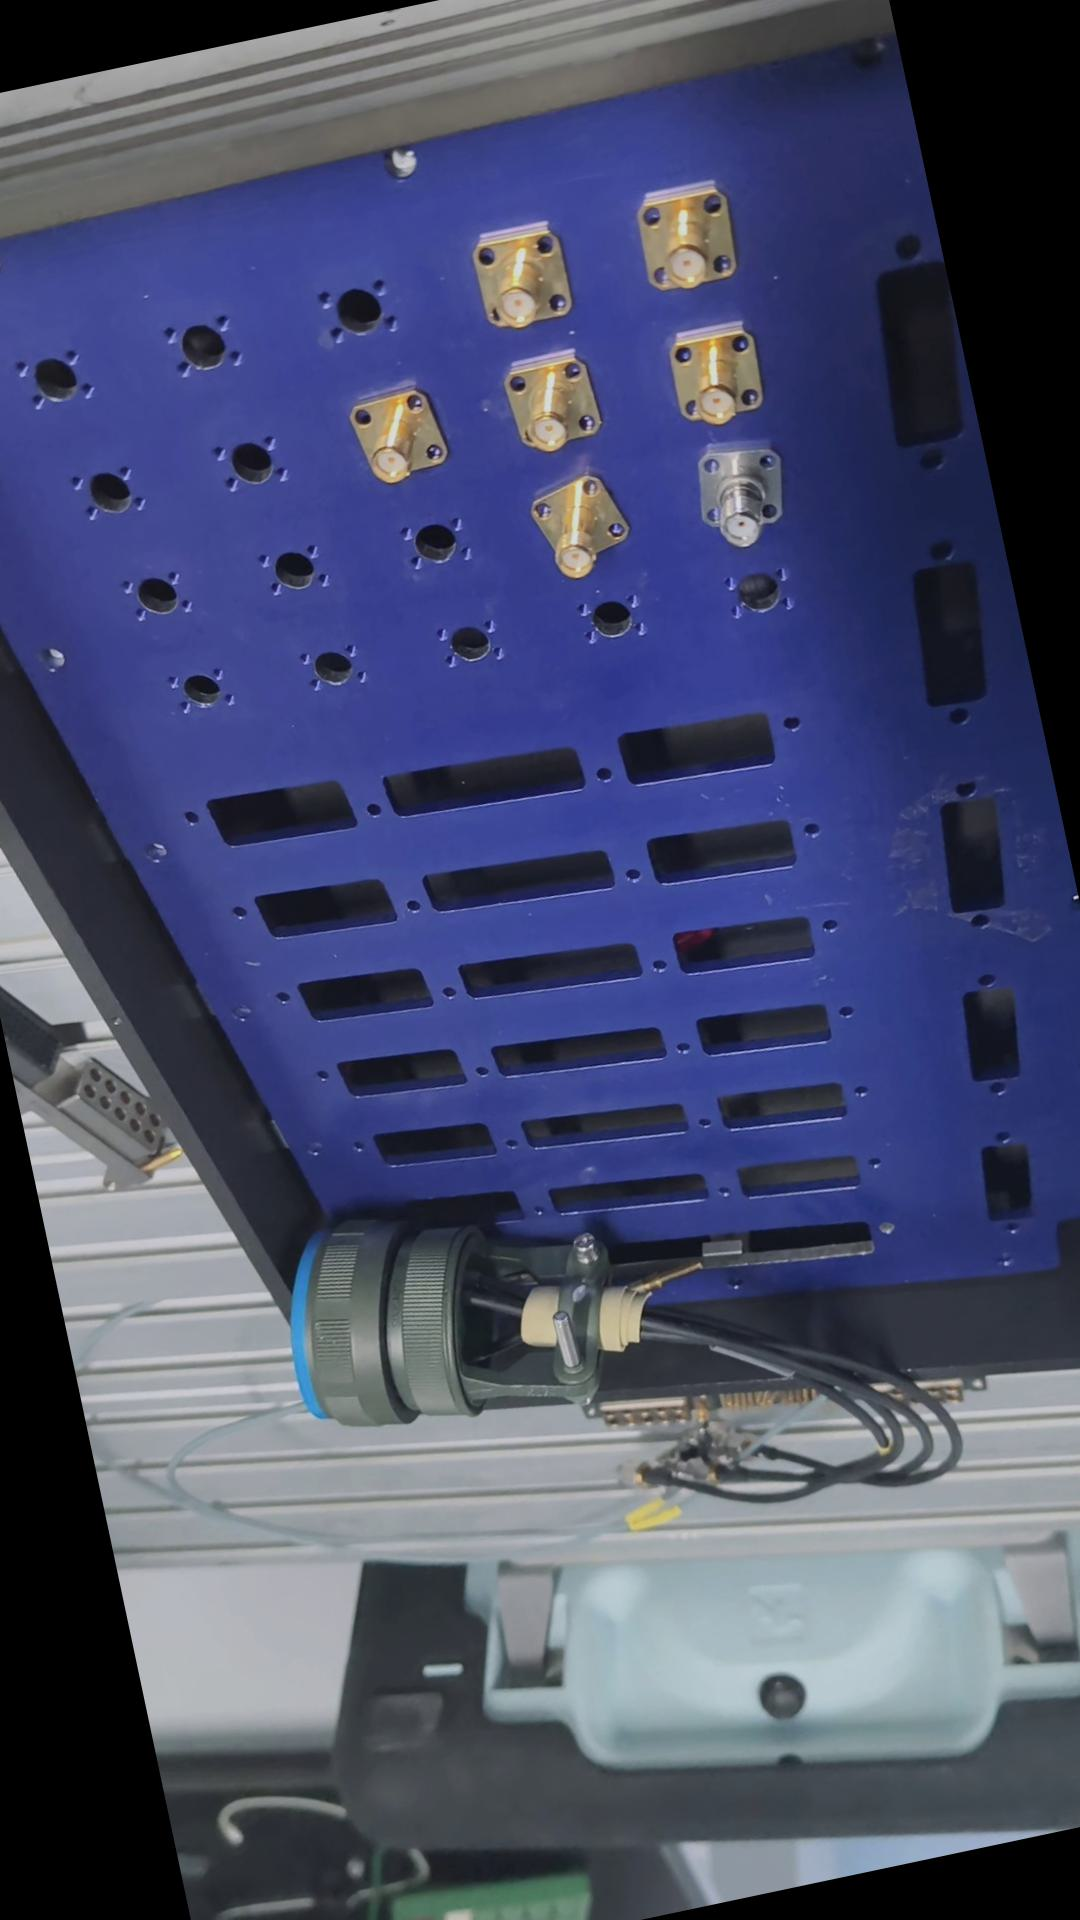SMA: (620, 174, 741, 306), (683, 433, 800, 553), (462, 216, 578, 338), (518, 465, 626, 585), (659, 319, 766, 427), (345, 378, 446, 489), (498, 351, 595, 459)
